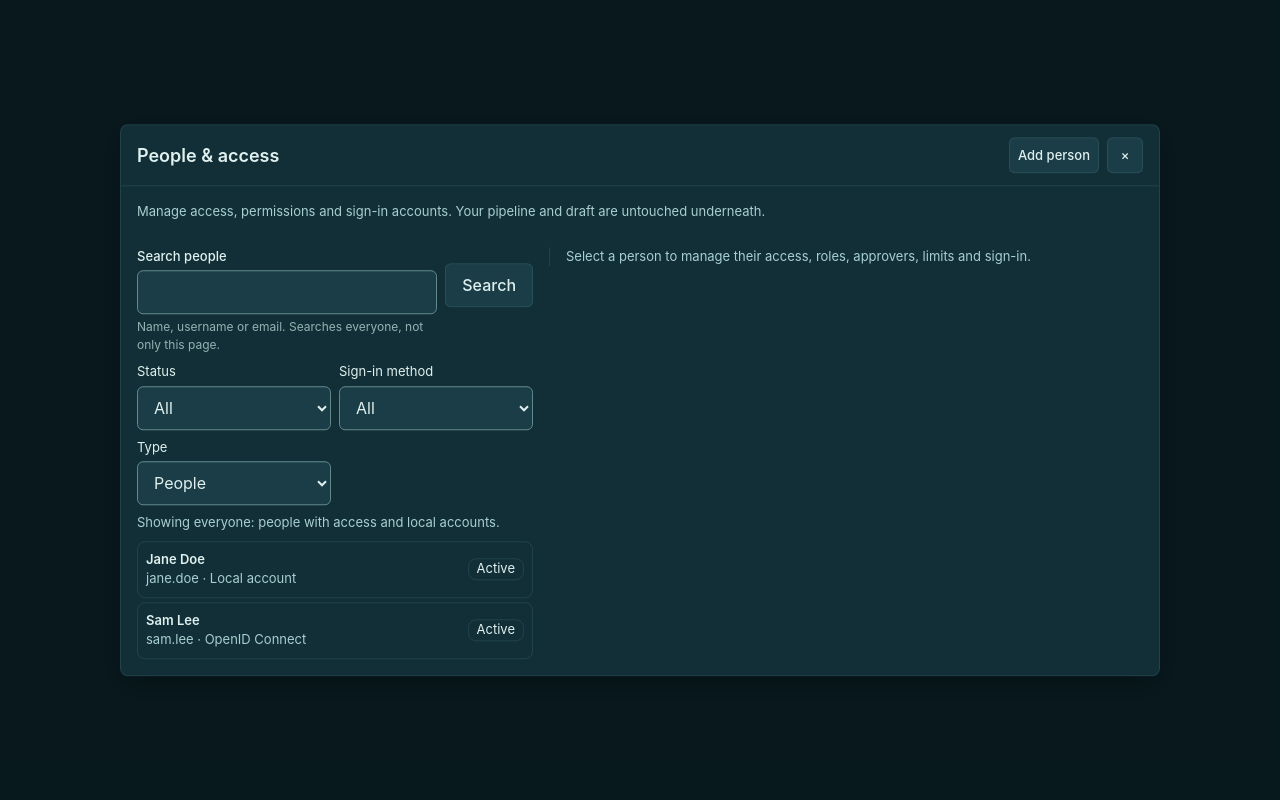
it: People & access: implementation review regressions › reads role grants past the first page, so none is left unrevokable
What coordinates should you click on to do the following:
click the button "Jane Doe jane.doe · Local account Active"
I would click on:
 (175, 559)
Its box is [137,541,533,598].
(page scrolled)
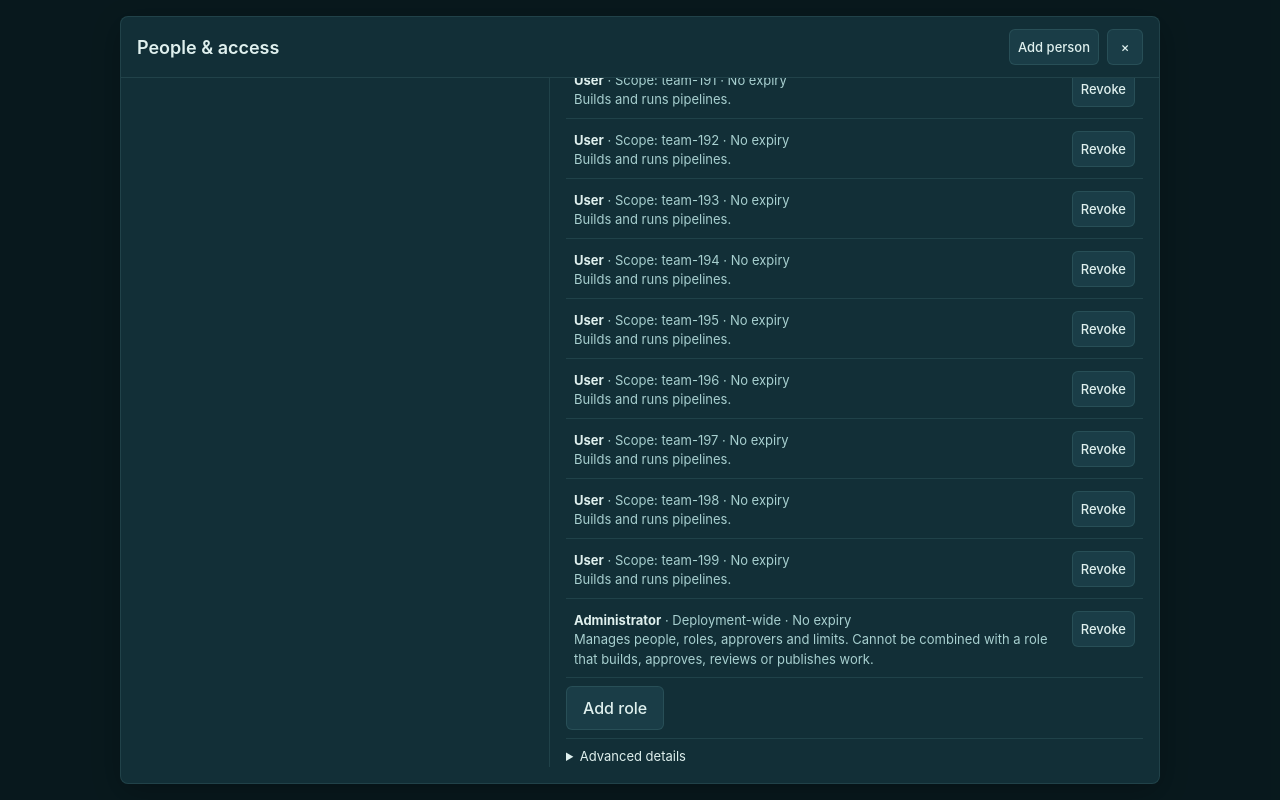
Check: the button "Add role" is shown, box [566,686,664,730]
Check: the button with aria-label "Revoke Administrator from Jane Doe" is shown, box [1072,611,1135,647]
